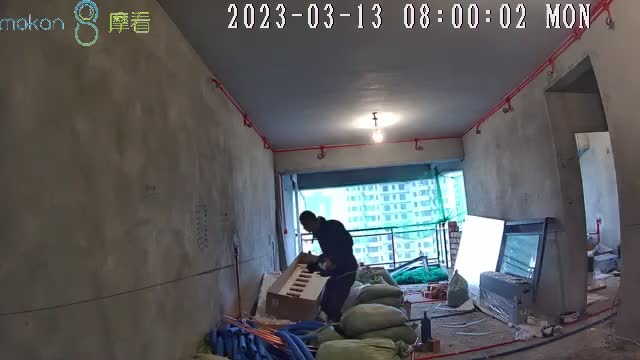people: (299, 211, 358, 331)
window: (293, 169, 466, 270)
